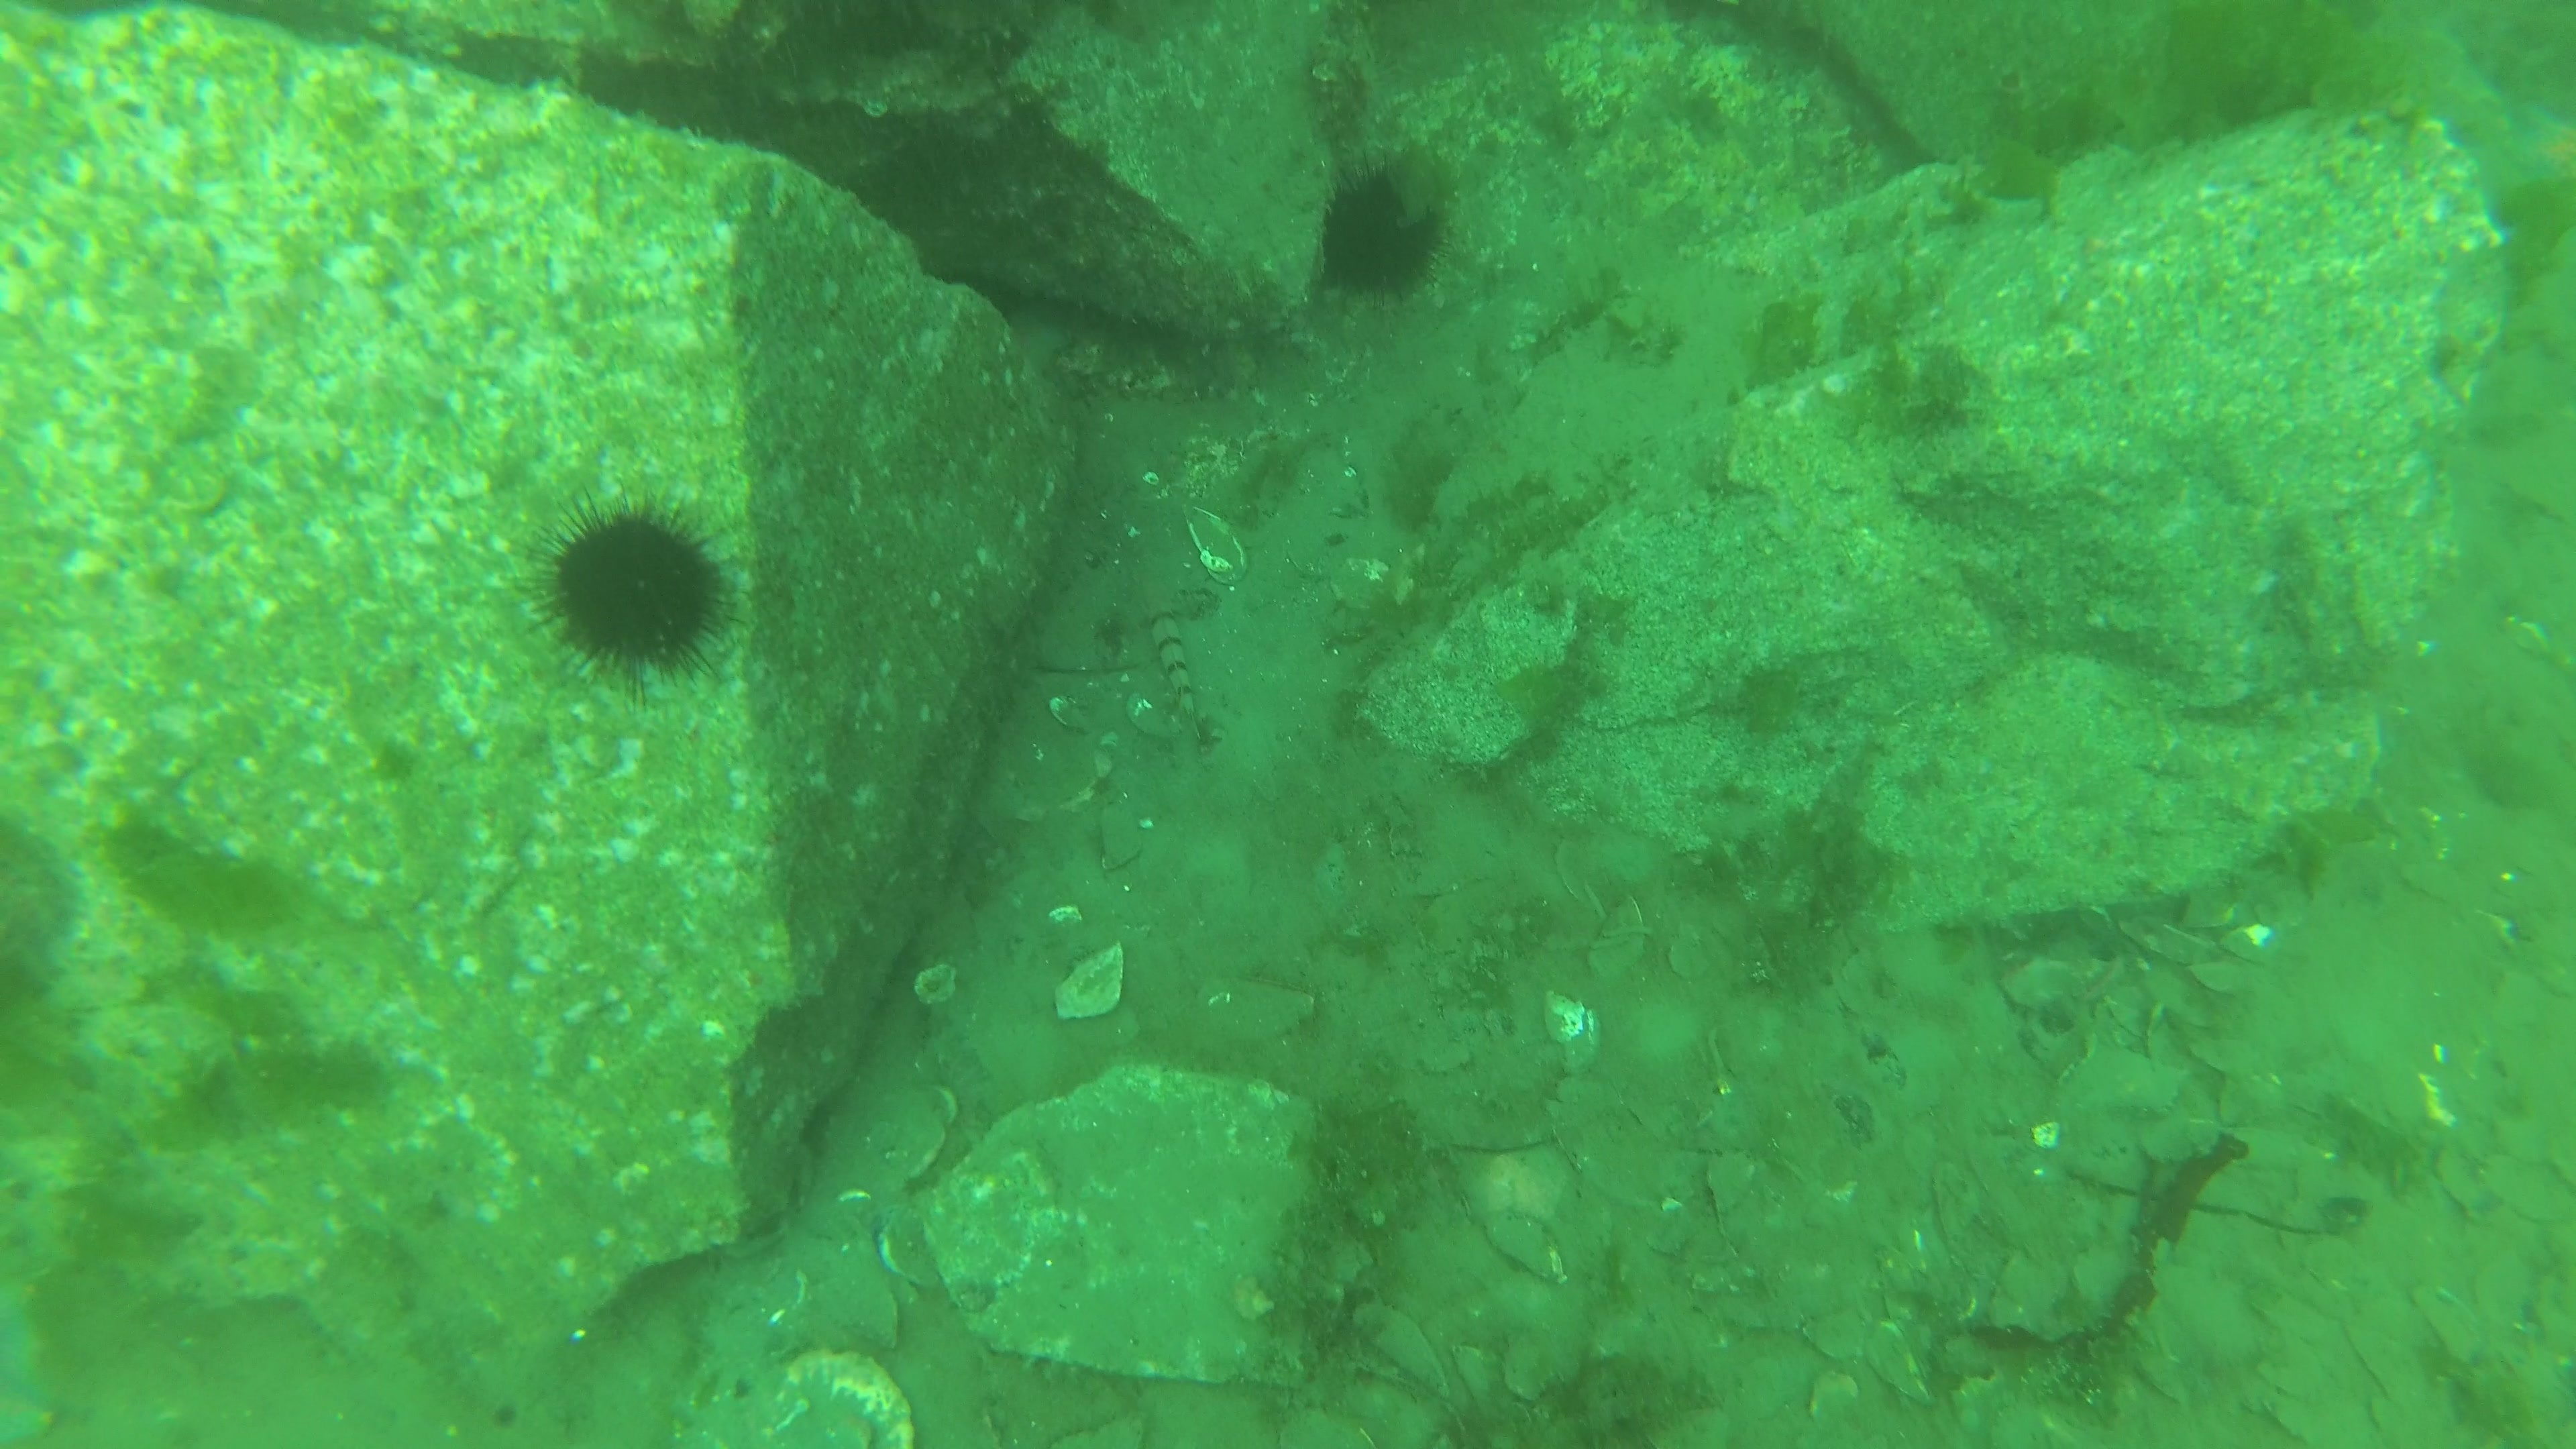echinus: (529, 490, 741, 711), (1318, 154, 1449, 303)
scallop: (778, 1355, 916, 1449)
